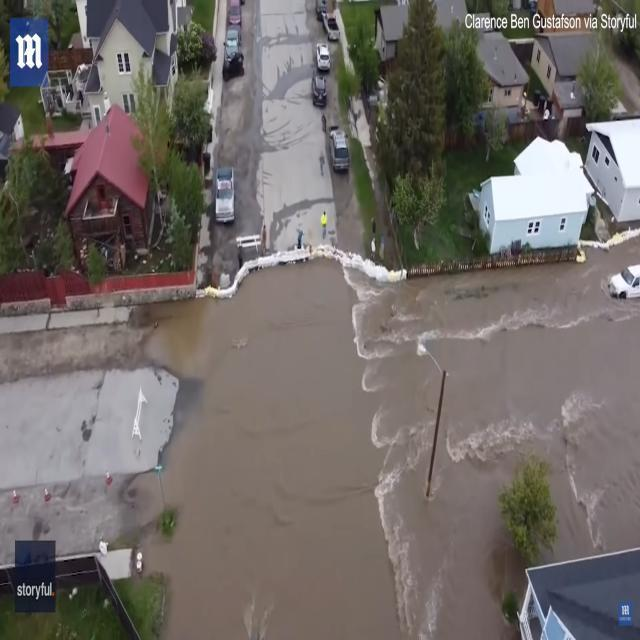flood: (0, 234, 640, 640)
house: (62, 100, 164, 266), (464, 134, 598, 260), (516, 545, 640, 640), (84, 0, 160, 94), (584, 108, 638, 234), (474, 34, 530, 123)
